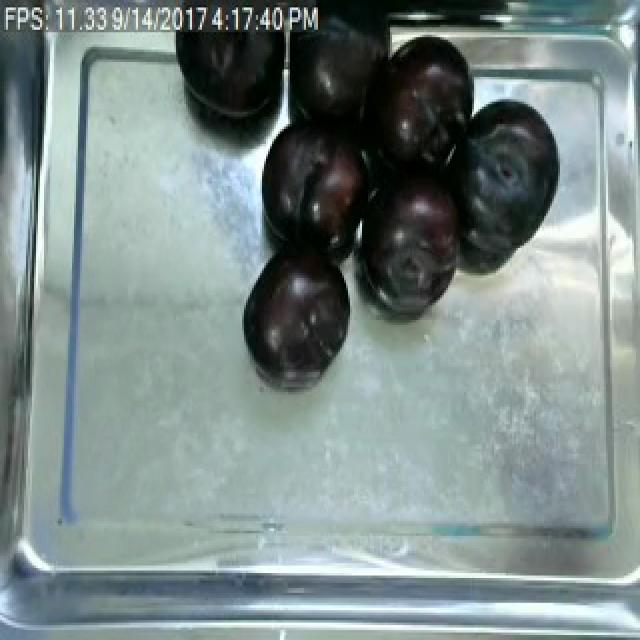Fruit: (440, 92, 572, 268), (352, 164, 478, 320), (252, 107, 380, 258), (364, 27, 486, 171), (236, 248, 358, 385), (168, 0, 290, 131)
